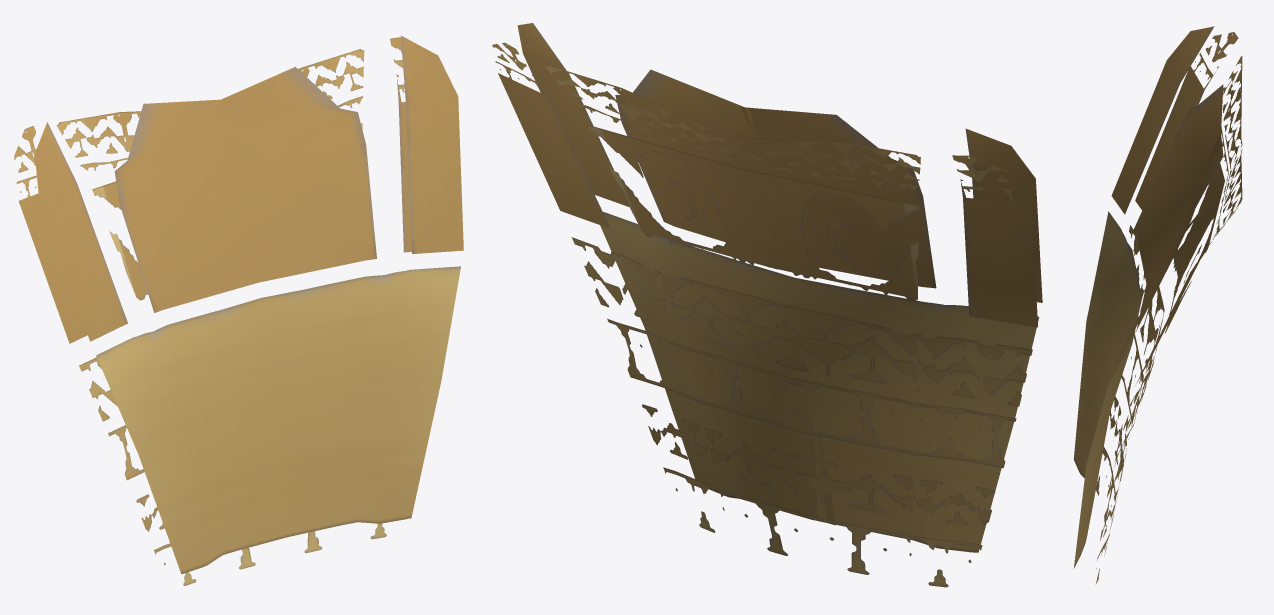
The model's file is yayoi_isw_e_armor_back_2.dae.
3 renders of one model, left to right at view 1: azimuth 30°, elevation 25°; view 2: azimuth 150°, elevation 25°; view 3: azimuth 270°, elevation 25°, orthographic. The views are drawn at different scales.
Visible parts, largest first — view 1: m_armor_dress_short_med_sleeves_b; view 2: m_armor_dress_short_med_sleeves_b; view 3: m_armor_dress_short_med_sleeves_b.
Boxes of the visible parts, <box> form: m_armor_dress_short_med_sleeves_b: <box>14,35,463,585</box>; m_armor_dress_short_med_sleeves_b: <box>492,23,1042,587</box>; m_armor_dress_short_med_sleeves_b: <box>1073,26,1242,584</box>.
Size of the model in its own units: 1.1 by 0.4232 by 1.12.
Materials: 1 (1 with a texture image).
